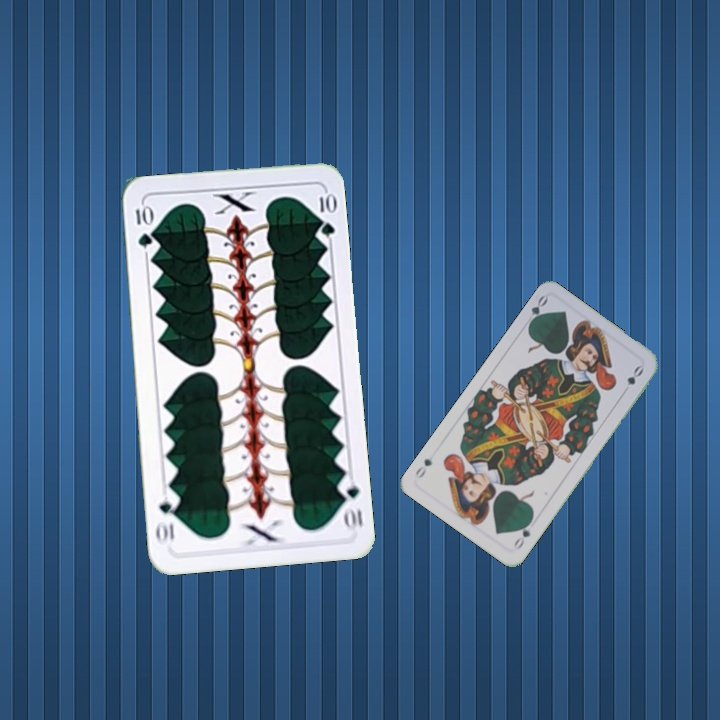G10: (335, 474, 366, 533), (131, 201, 154, 250)
GO: (520, 291, 550, 330), (509, 515, 535, 552)
